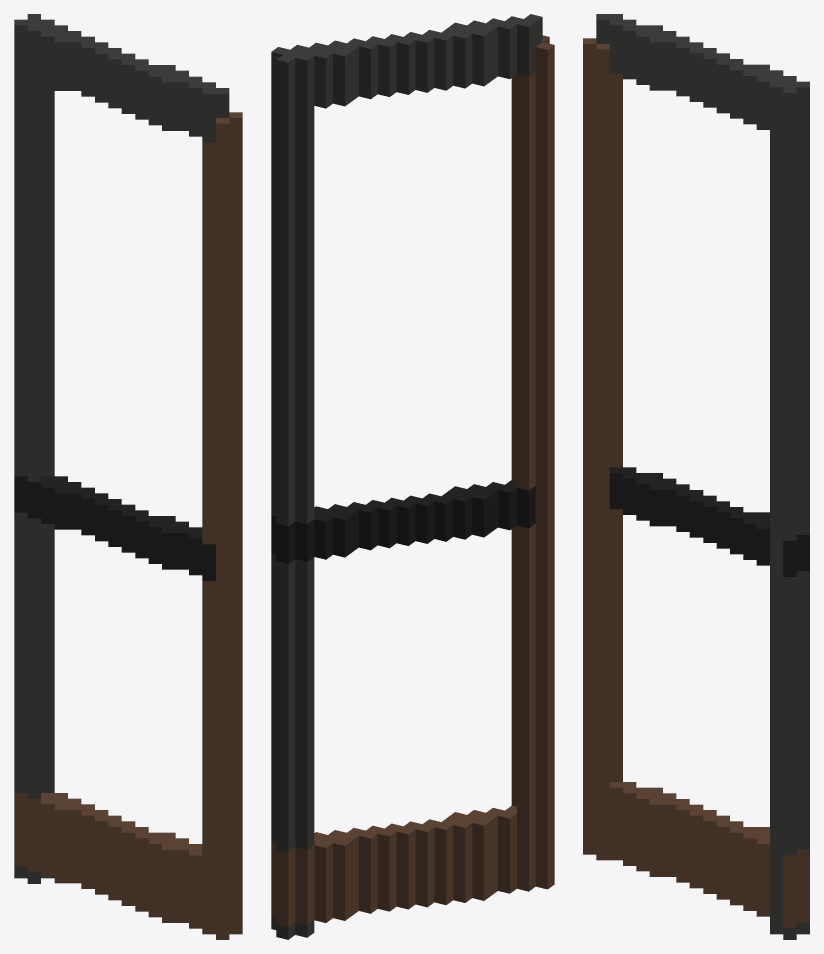
The model's file is burnt_out_bus_sprung_door.glb.
The picture shows the model from 3 angles, left to right: view 1: azimuth 90°, elevation 25°; view 2: azimuth 150°, elevation 25°; view 3: azimuth 270°, elevation 25°; orthographic projection. The views are drawn at different scales.
Parts seen in each view (by area): view 1: body:compound; view 2: body:compound; view 3: body:compound.
Boxes of the visible parts, left/top/right/bottom form: body:compound: left=14, top=14, right=242, bottom=939; body:compound: left=271, top=14, right=554, bottom=939; body:compound: left=583, top=14, right=809, bottom=939.
Size of the model in its own units: 0.4688 by 2.19 by 0.5312.
